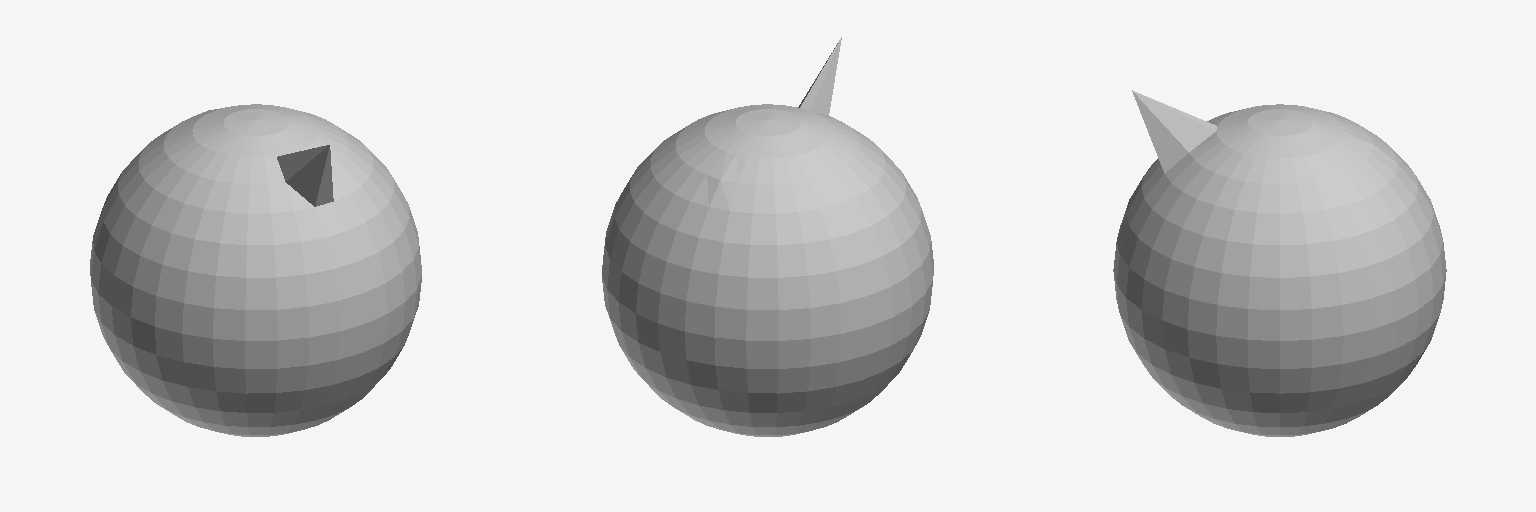
The model's file is Player2.obj.
3 renders of one model, left to right at view 1: azimuth 30°, elevation 25°; view 2: azimuth 150°, elevation 25°; view 3: azimuth 270°, elevation 25°, orthographic.
Visible parts, largest first — view 1: 球; view 2: 球; view 3: 球.
Boxes of the visible parts, x1=… form: 球: x1=90, y1=104, x2=421, y2=436; 球: x1=602, y1=37, x2=933, y2=436; 球: x1=1113, y1=90, x2=1446, y2=436.
Size of the model in its own units: 2 by 2.2 by 2.